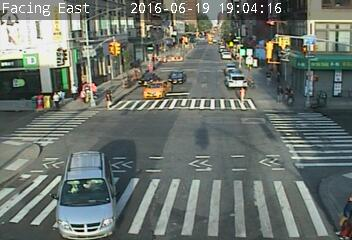neg: (58, 173, 86, 210), (297, 34, 321, 65), (327, 57, 349, 86), (101, 41, 121, 68), (312, 85, 331, 111), (274, 33, 293, 58), (240, 36, 259, 61), (218, 34, 236, 58), (142, 58, 159, 81)
pos: (229, 81, 252, 112), (269, 80, 289, 107), (281, 83, 300, 107), (260, 66, 278, 90), (98, 87, 116, 111), (64, 78, 82, 102), (46, 90, 63, 112)
